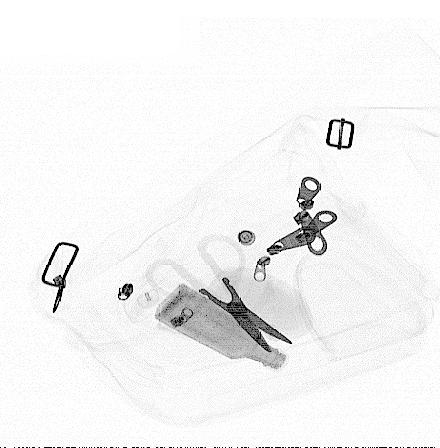Scissors: (144, 232, 296, 354)
